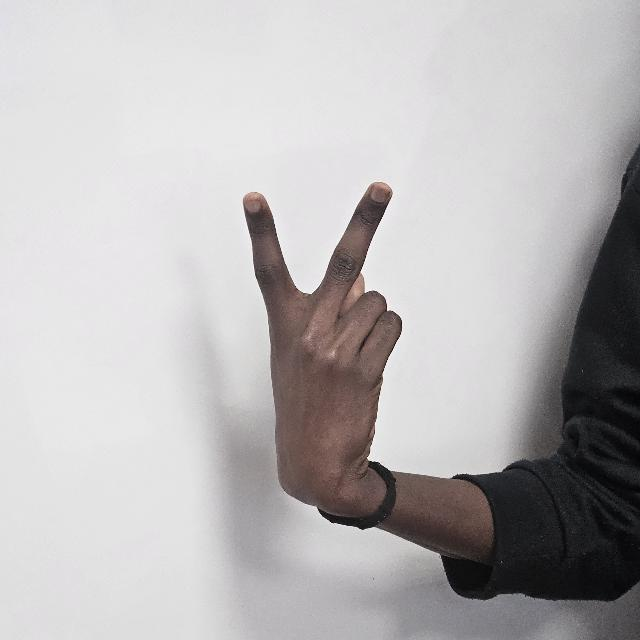Triangulo: (237, 182, 417, 534)
